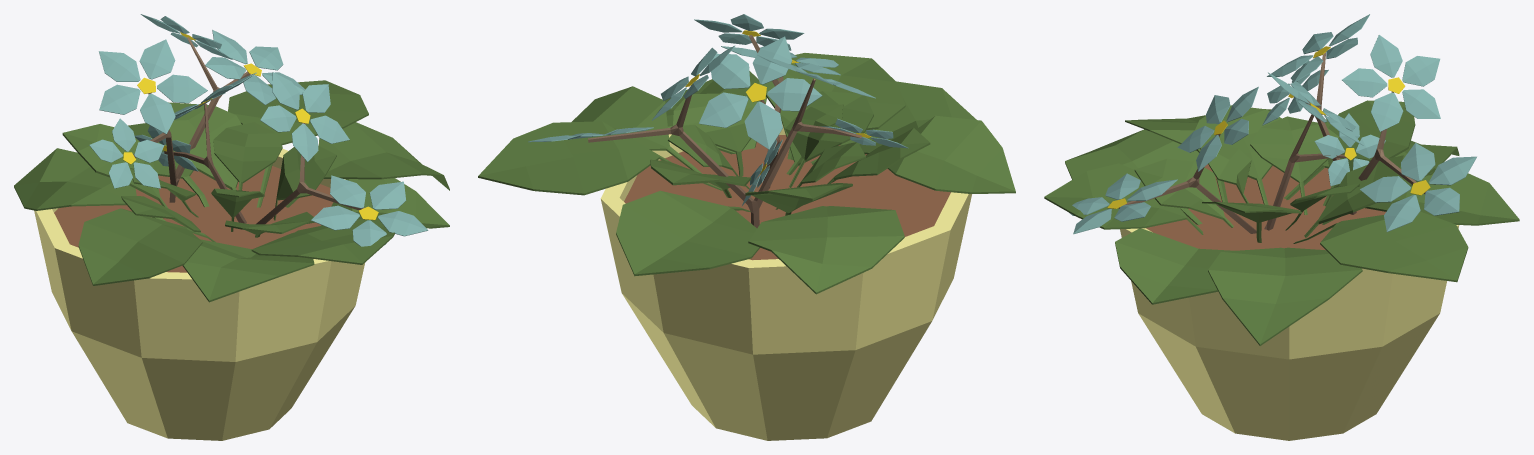
File: Plant_12.fbx
3 views of the same model, side by side, from view 1: azimuth 30°, elevation 25°; view 2: azimuth 150°, elevation 25°; view 3: azimuth 270°, elevation 25° (orthographic). The views are drawn at different scales.
Visible parts, largest first — view 1: Plant_12; view 2: Plant_12; view 3: Plant_12.
Part boxes in pixels (x1=…): Plant_12: x1=14, y1=14, x2=449, y2=440; Plant_12: x1=478, y1=14, x2=1015, y2=440; Plant_12: x1=1044, y1=14, x2=1519, y2=440.
Bounding box in the file's own units: 21.18 × 18.38 × 21.4.
